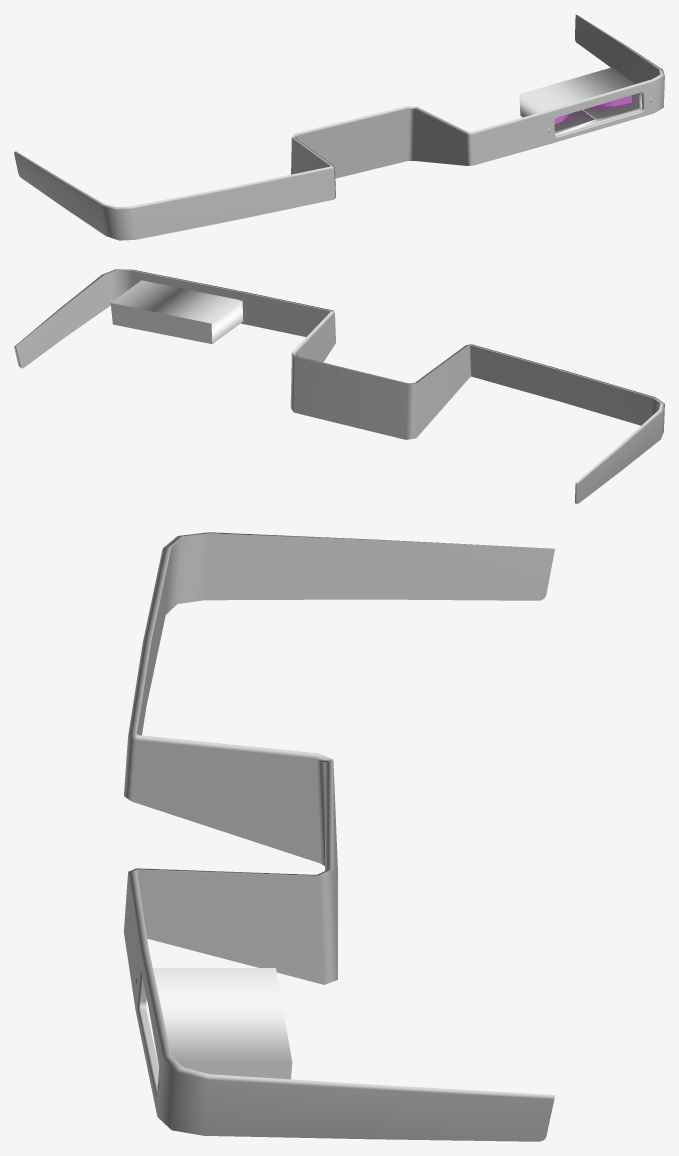
File: Car_Buick_GrandNational_1987_Splitter_SetA.fbx
The picture shows the model from 3 angles, top to bottom: view 1: azimuth 30°, elevation 25°; view 2: azimuth 150°, elevation 25°; view 3: azimuth 270°, elevation 25°; orthographic projection. The views are drawn at different scales.
Visible parts, largest first — view 1: Splitter 6; view 2: Splitter 6; view 3: Splitter 6.
Boxes of the visible parts, box(x1,y1,x2,y2) form: Splitter 6: box(14, 14, 664, 240); Splitter 6: box(14, 269, 664, 503); Splitter 6: box(124, 532, 554, 1141).
Bounding box in the file's own units: 1.62 × 0.1686 × 0.535.
